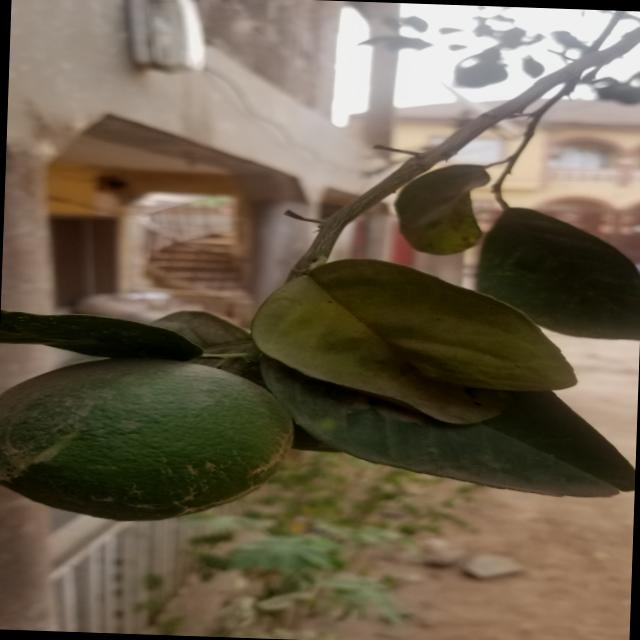agrume: (0, 350, 300, 524)
